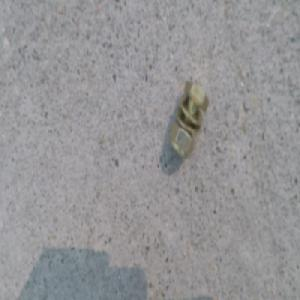BoltNutSet: (168, 81, 209, 160)
